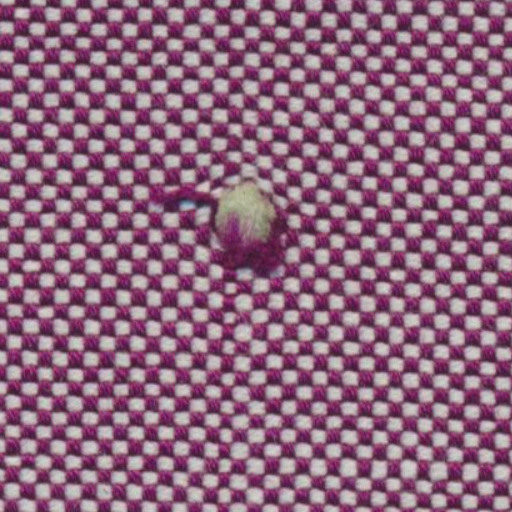MianQiu: (125, 142, 329, 304)
